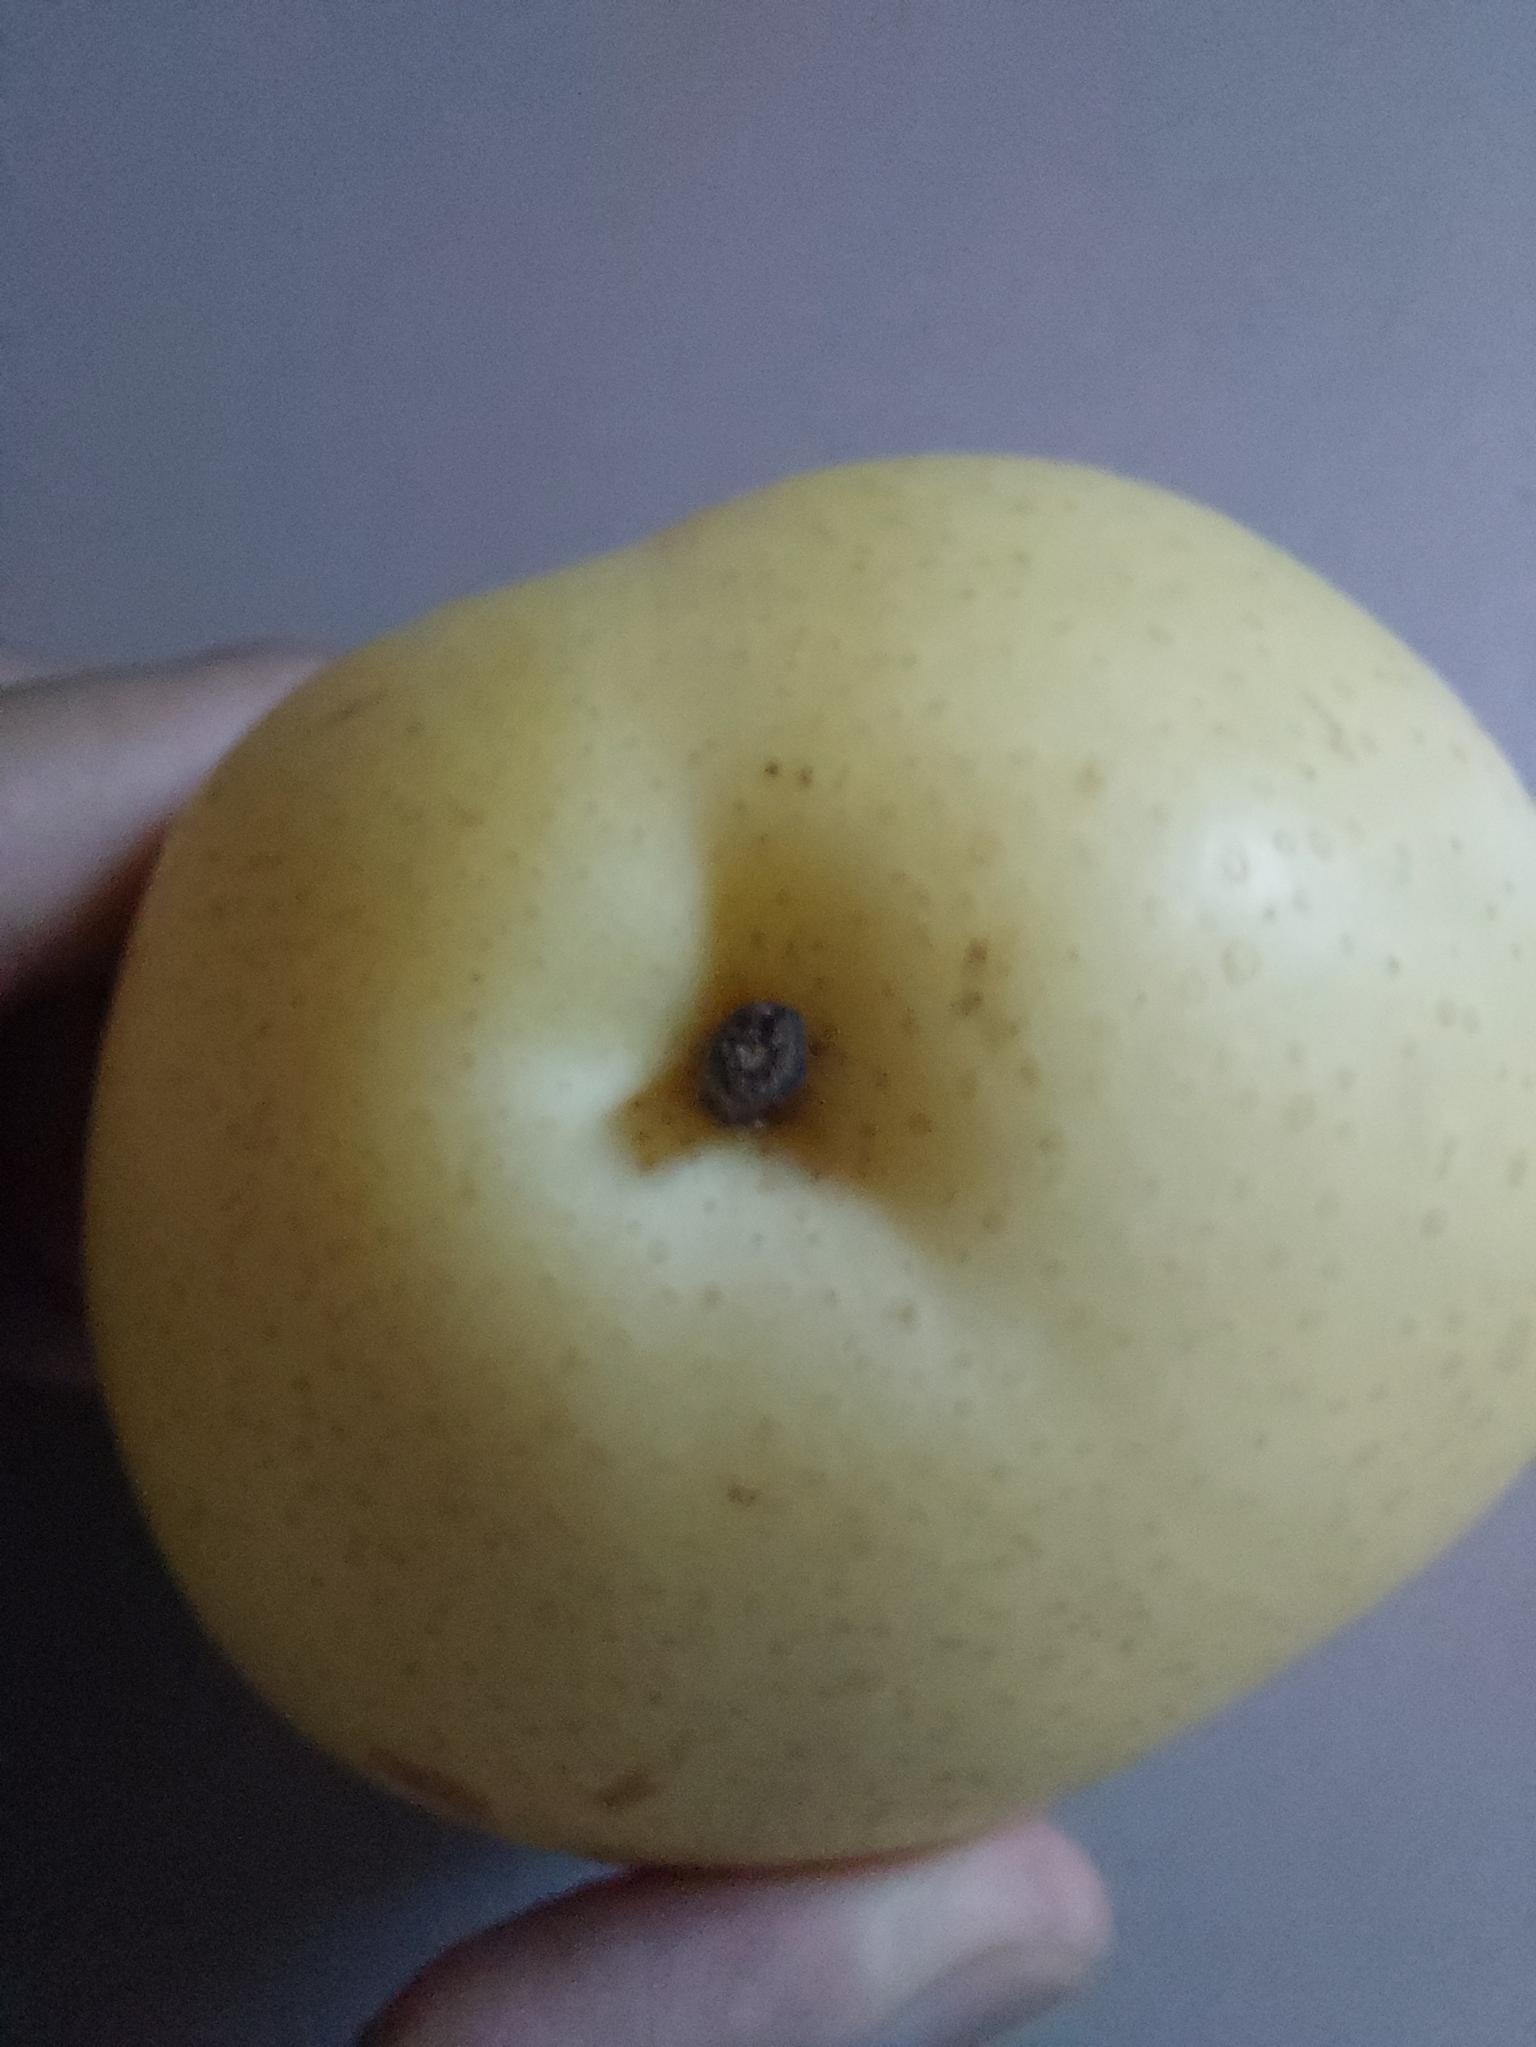Good Pear: (108, 430, 1536, 1880)
